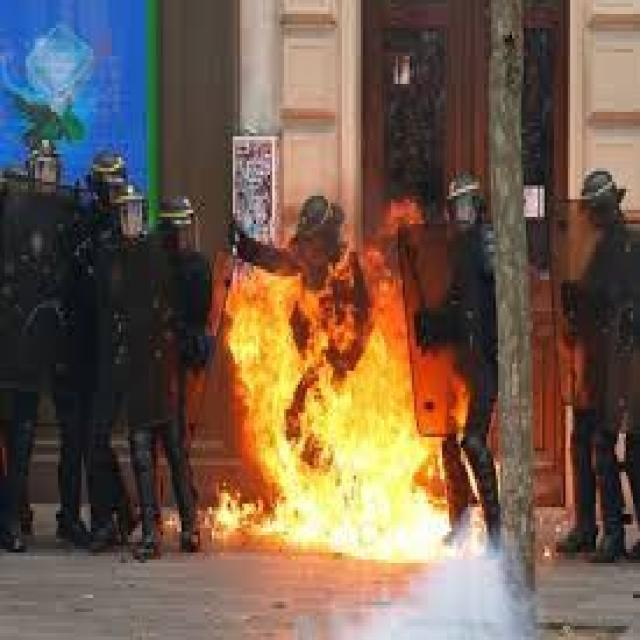Fire: (182, 190, 502, 562)
Smoke: (290, 562, 549, 640)
